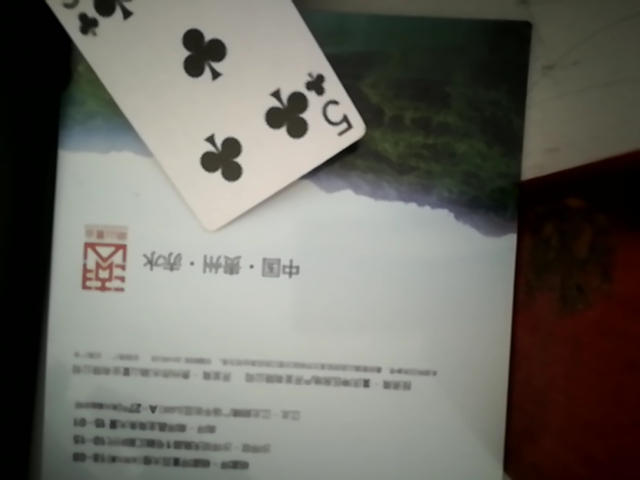mh 5: (56, 1, 365, 237)
